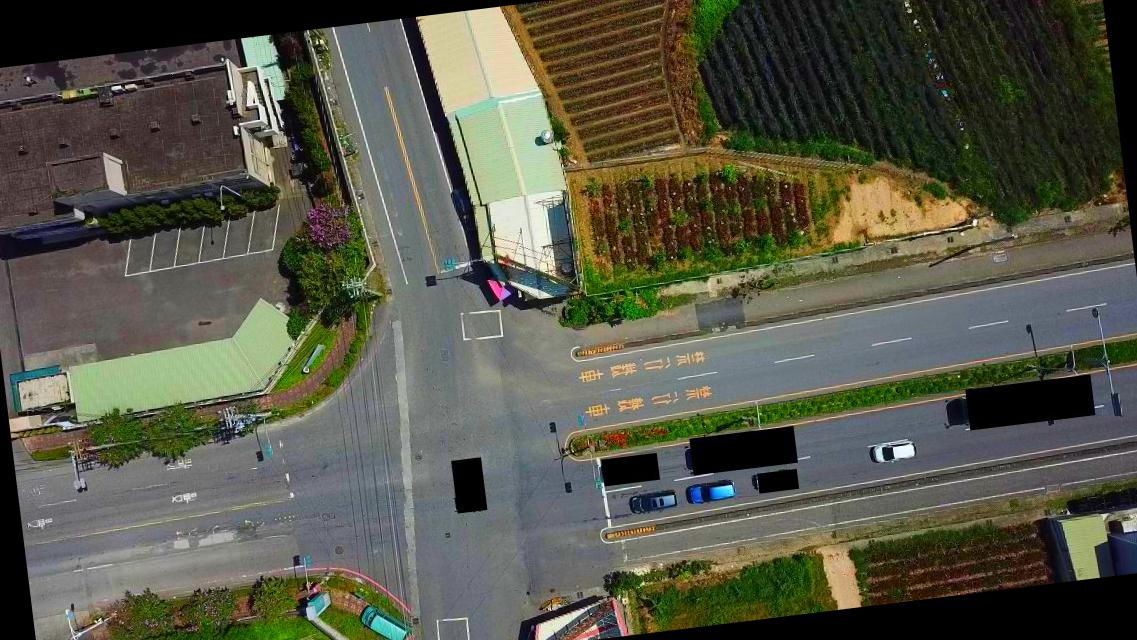vehicle: (357, 599, 411, 639), (624, 486, 678, 514), (685, 477, 737, 503), (870, 439, 916, 467)
